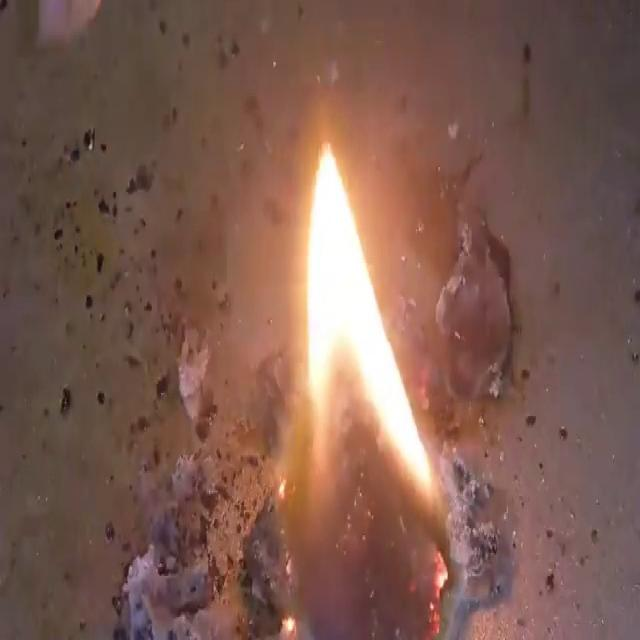Fire: (3, 4, 637, 636), (278, 135, 454, 637)
